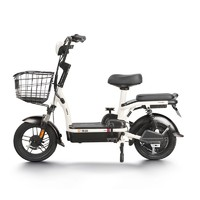MNV: (14, 34, 184, 162)
